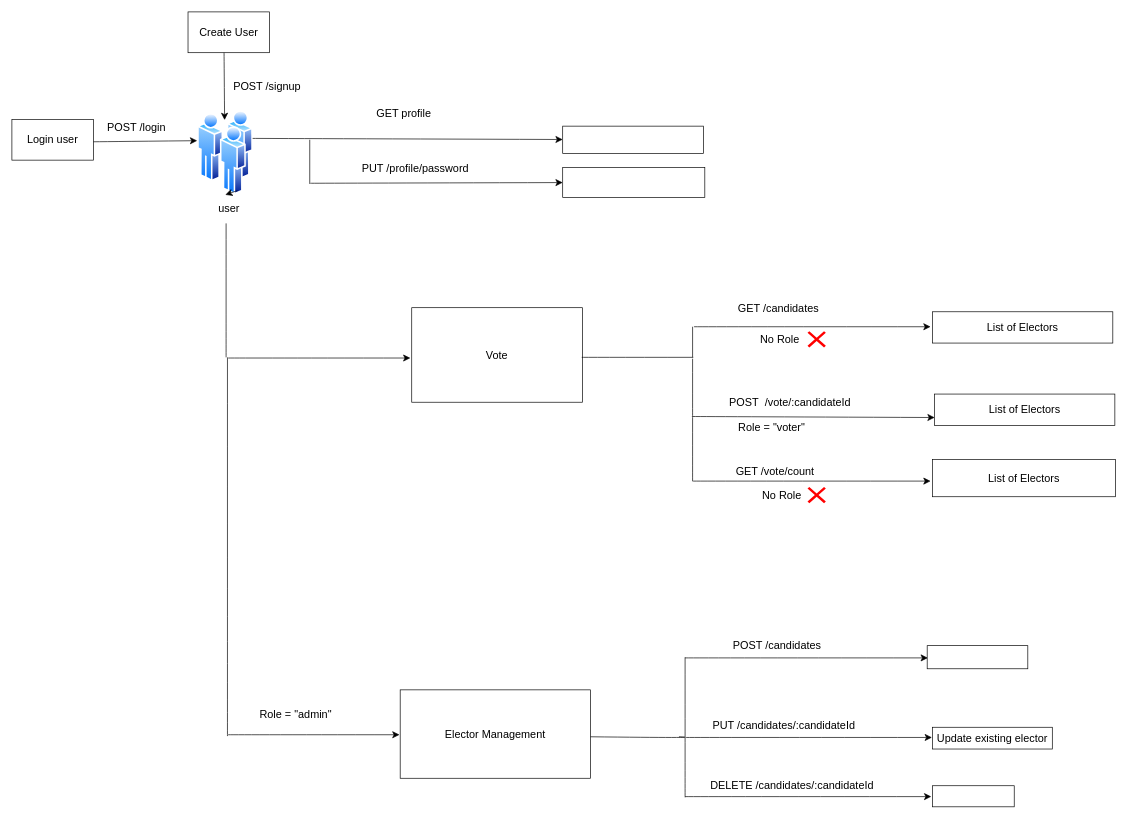
Image size: 1127x819. Some labels were removed from this diagram. The centre of each missing label's shape, as x and y in pixels:
"Access is profile" belongs at [632,139].
"Create new elector" belongs at [977,657].
"Delete a elector" belongs at [973,796].
"Profile password change" belongs at [633,182].
